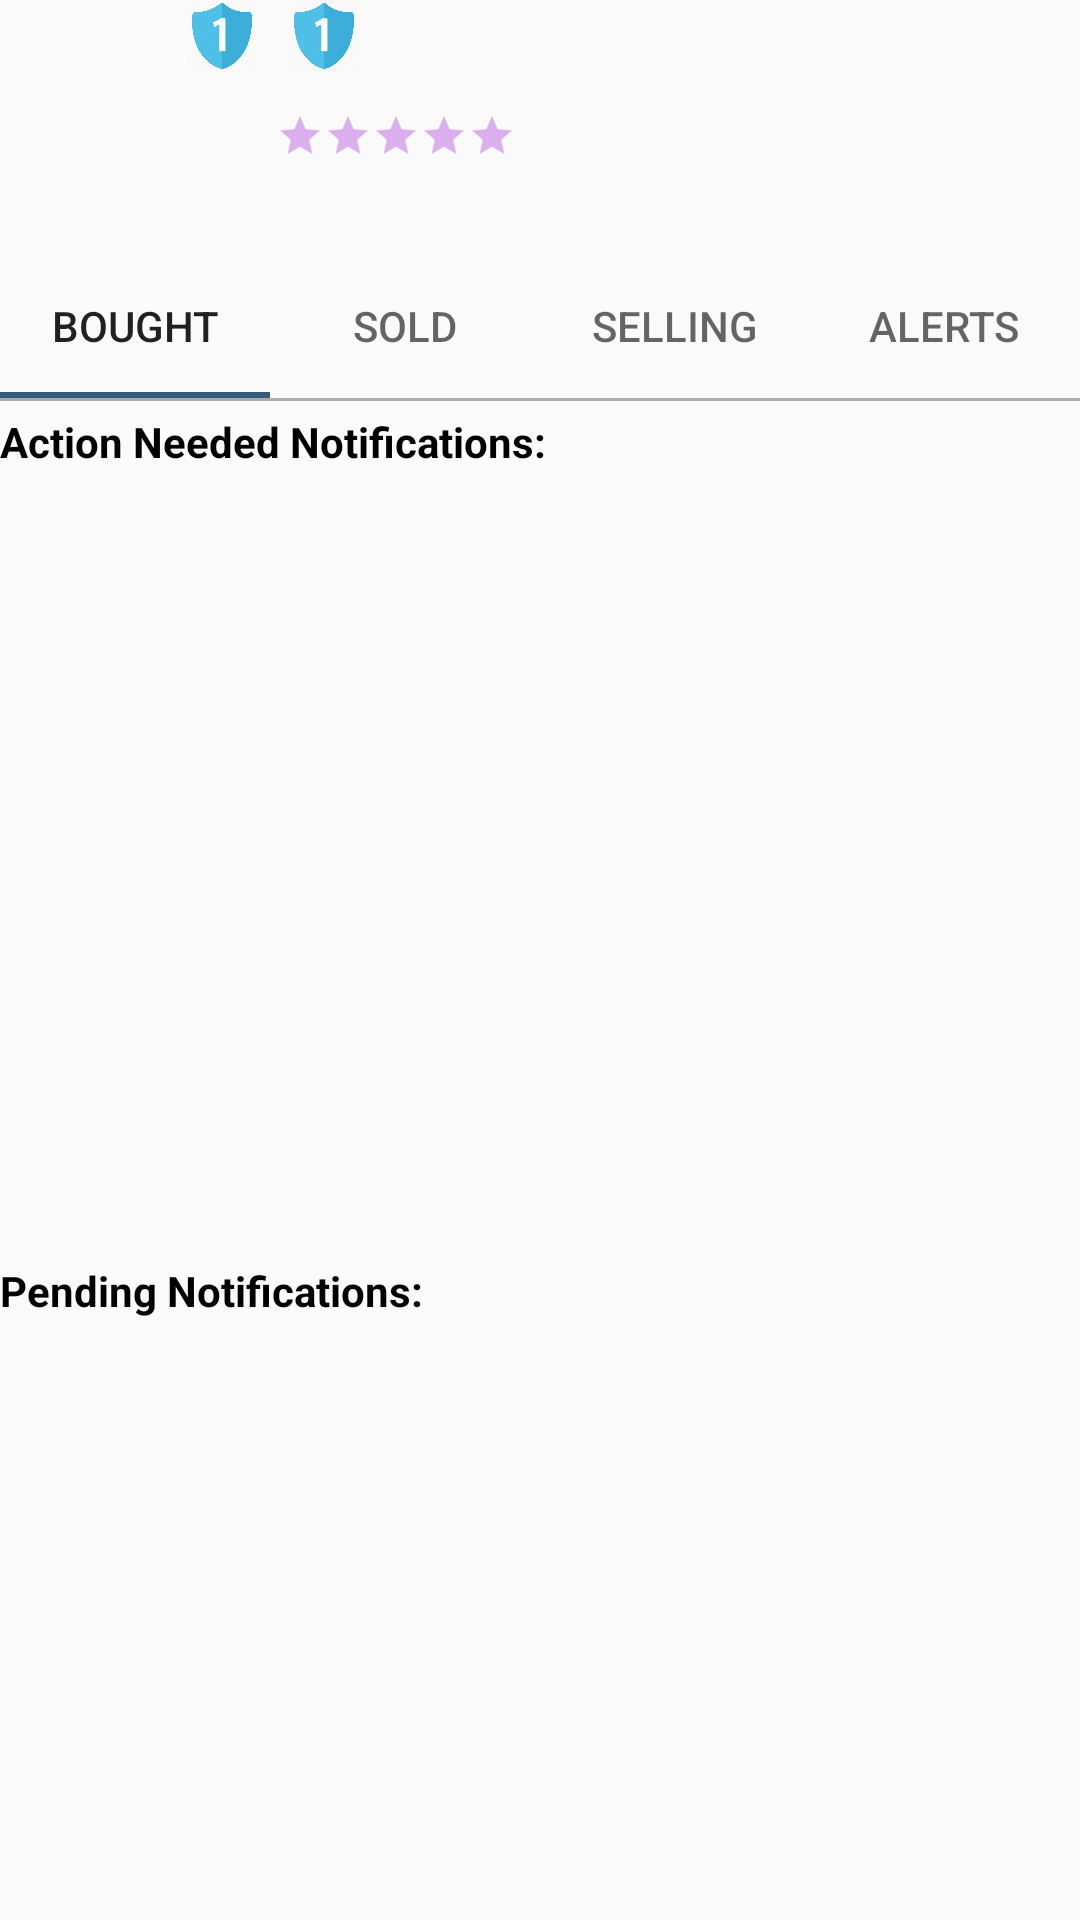

Icon click points for this 1080×1920 phone screenshot, format (x=x, y=y):
level one: (x=222, y=36), (x=324, y=36)
